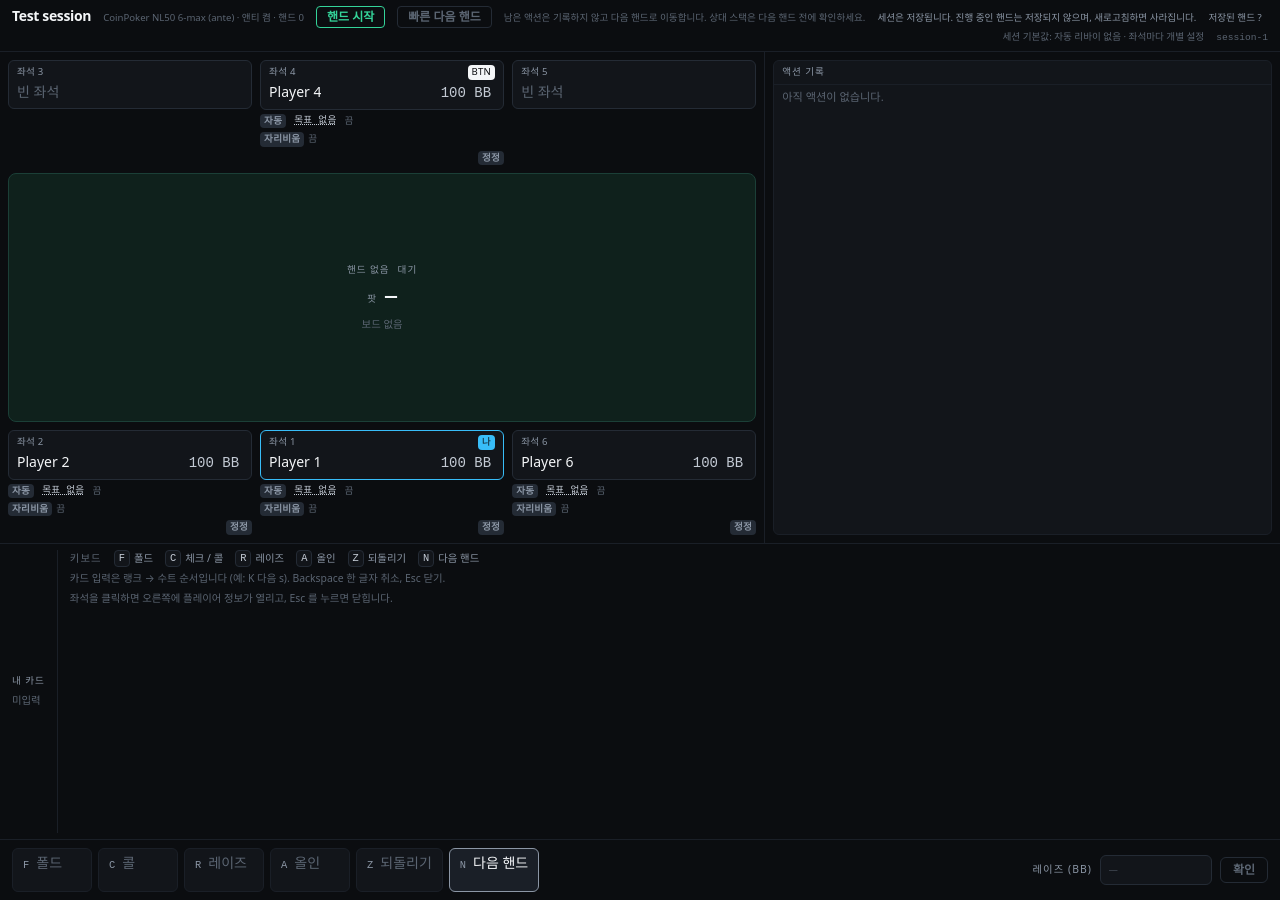
TableRoot › marks exactly the seat HandView says is the actor
The width and height of the screenshot is (1280, 900).
Click the button with test id "start-hand" at (351, 17), box [316,6,385,28]
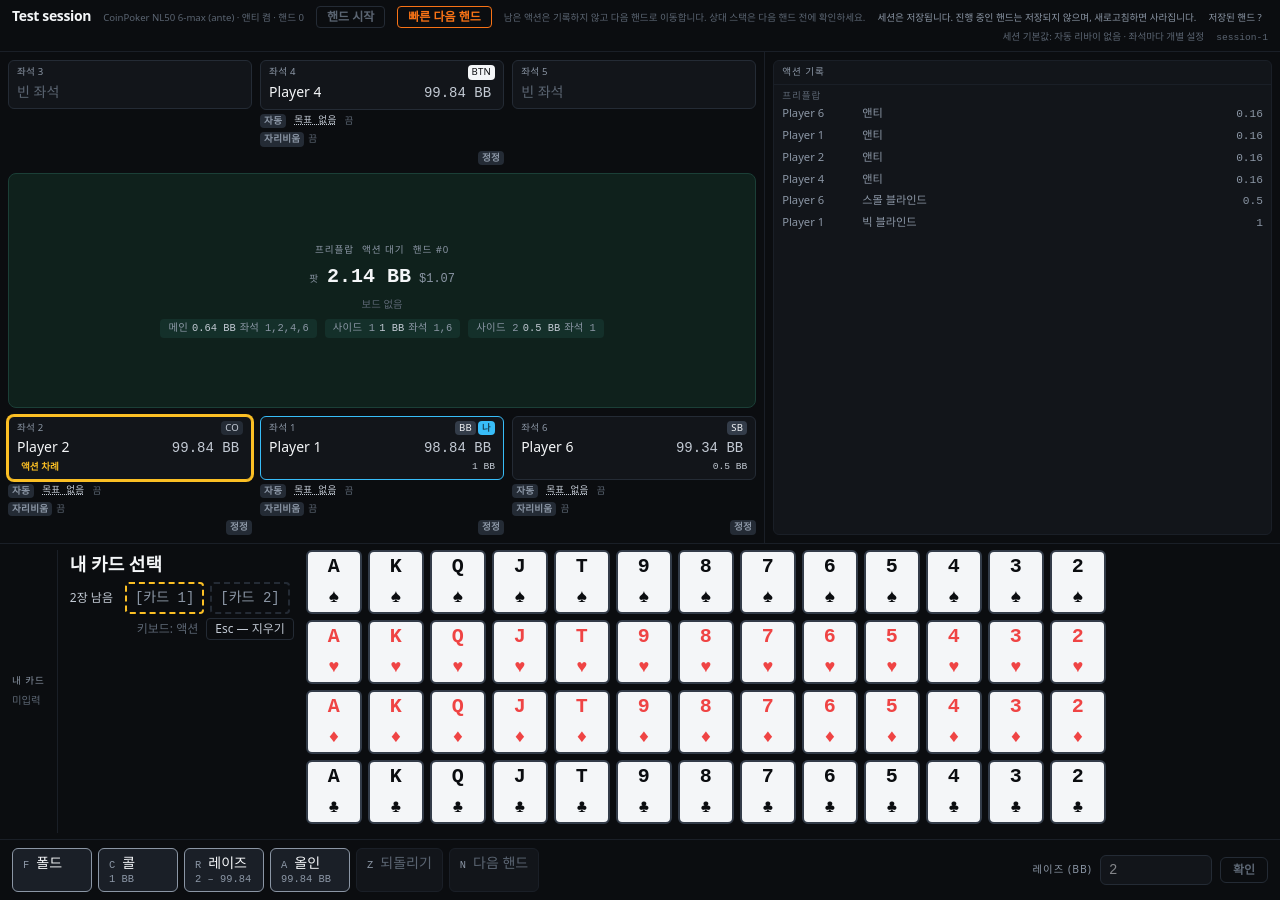
Check: the button with test id "seat-1" shows "액션 차례", box [8,416,252,480]
